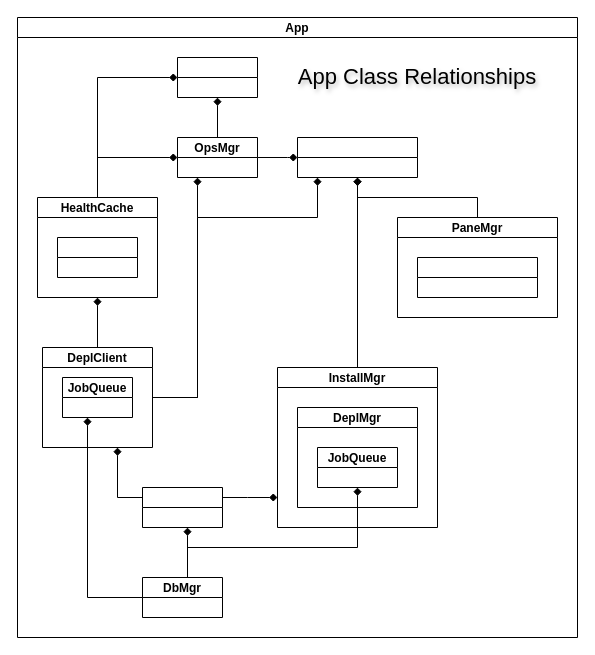
This 595x655 diagram has some shape labels left out. Here are the shapes that lost their labels. From the top down, the centre of each, then its label:
pixel 217 77: NavPane
pixel 357 157: MessageRouter
pixel 97 257: HealthMgr
pixel 477 277: PaneCatalogue
pixel 182 507: DbCache
